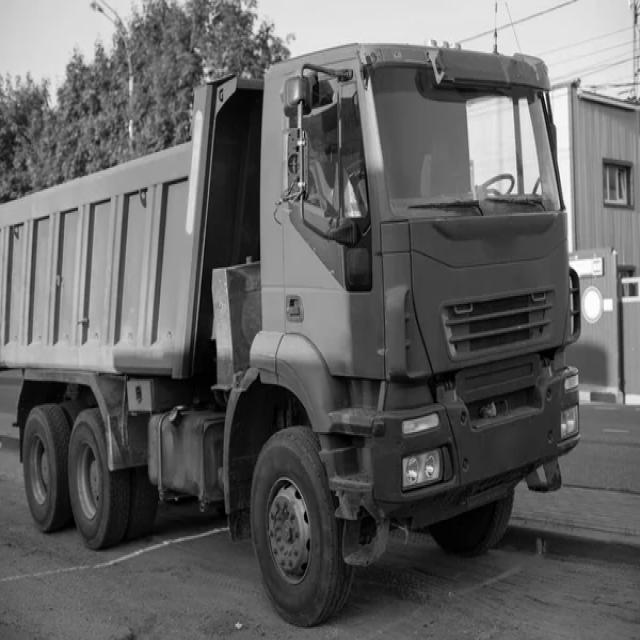Truck: (0, 43, 580, 626)
